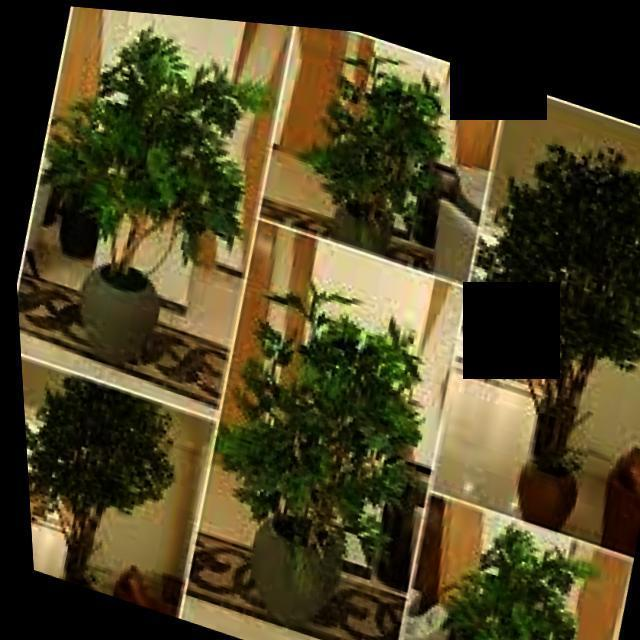tree: (419, 88, 640, 495), (13, 5, 290, 322), (190, 260, 450, 579), (17, 357, 192, 609), (284, 24, 472, 243), (400, 488, 602, 640)
